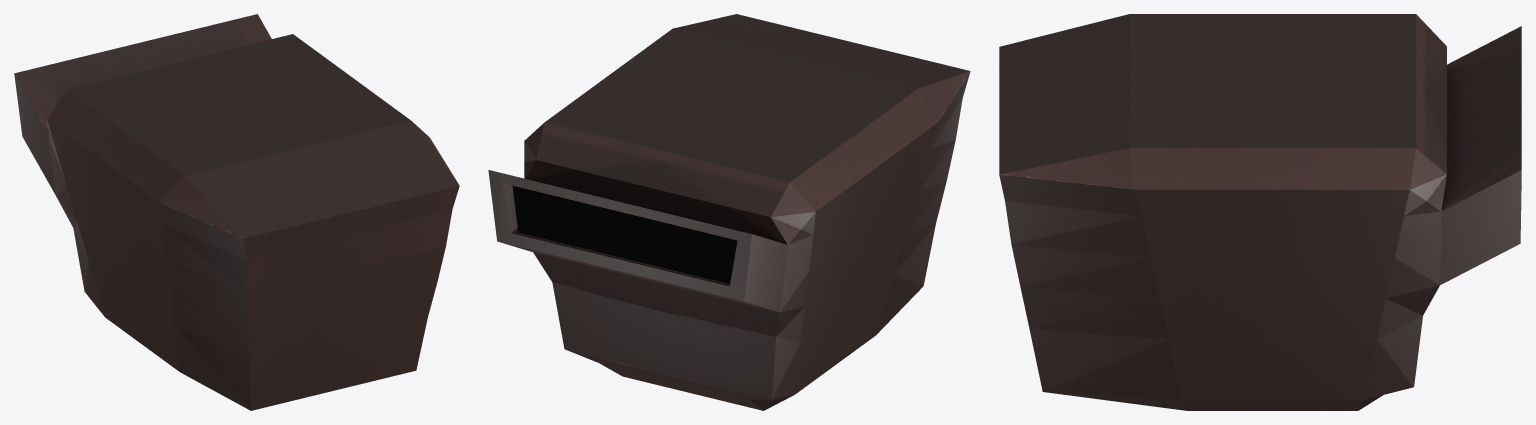
Rendered from ailauncher2.dae.
3 views of the same model, side by side, from view 1: azimuth 30°, elevation 25°; view 2: azimuth 150°, elevation 25°; view 3: azimuth 270°, elevation 25° (orthographic). The views are drawn at different scales.
Parts seen in each view (by area): view 1: duallaunchers; view 2: duallaunchers; view 3: duallaunchers.
Part boxes in pixels (x1=…): duallaunchers: x1=14, y1=14, x2=459, y2=410; duallaunchers: x1=488, y1=14, x2=970, y2=410; duallaunchers: x1=999, y1=14, x2=1521, y2=410.
Size of the model in its own units: 2.41 by 3.35 by 2.06.
Materials: 1 (1 with a texture image).
